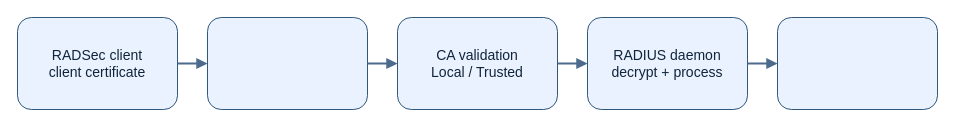
Image size: 955x127. Some labels were removed from this diagram. The shapes that lost their labels are listed below. From the top down, each one's centre as x and y in pixels, then its label:
(x=287, y=63): TLS handshake server certificate
(x=857, y=63): Accounting UDP-like semantics
